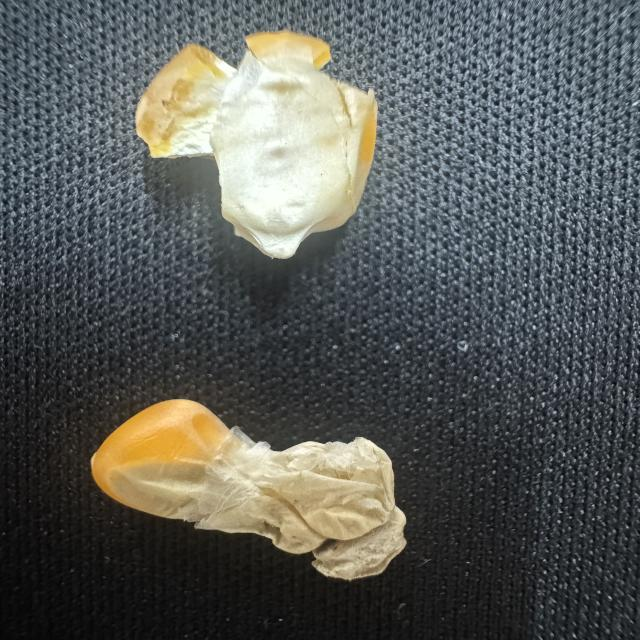Bad-Seed: (79, 371, 418, 608), (129, 14, 392, 280)
